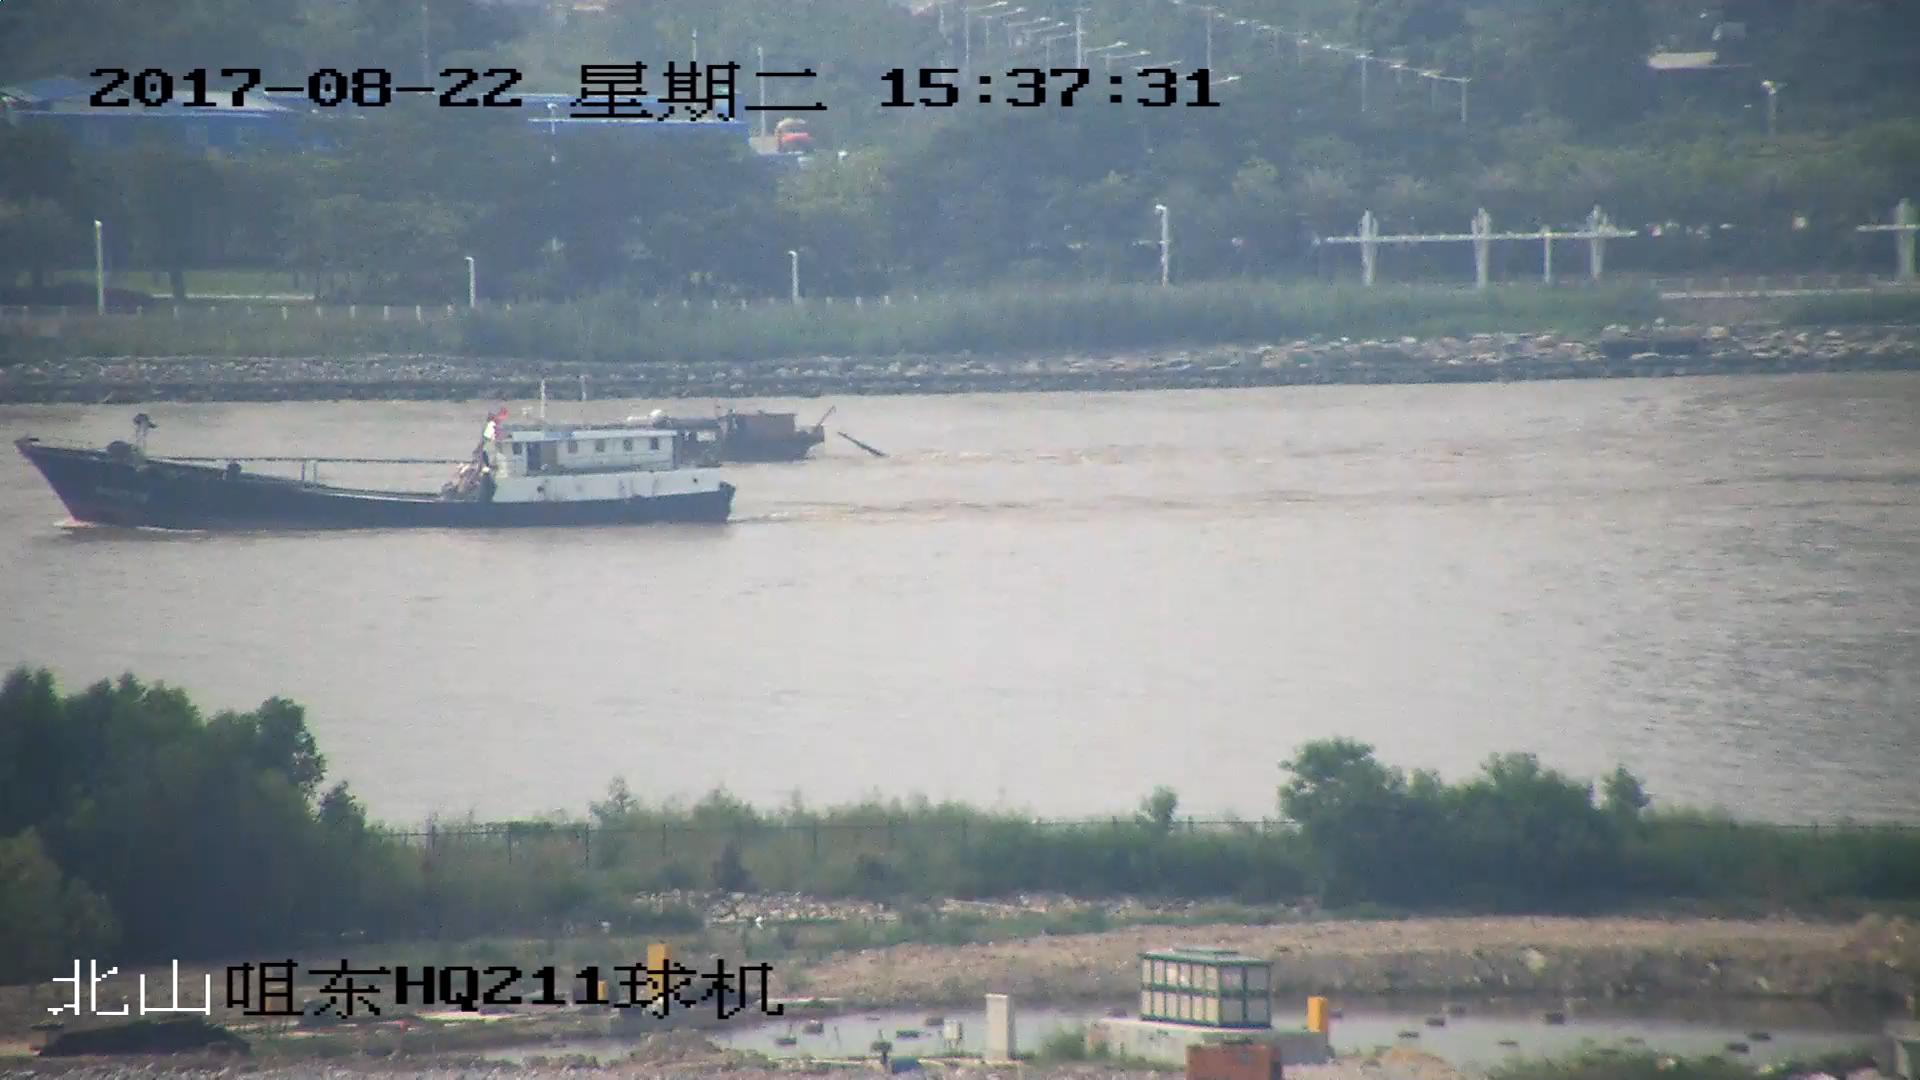fishing boat: (12, 410, 742, 535), (551, 399, 893, 469)
